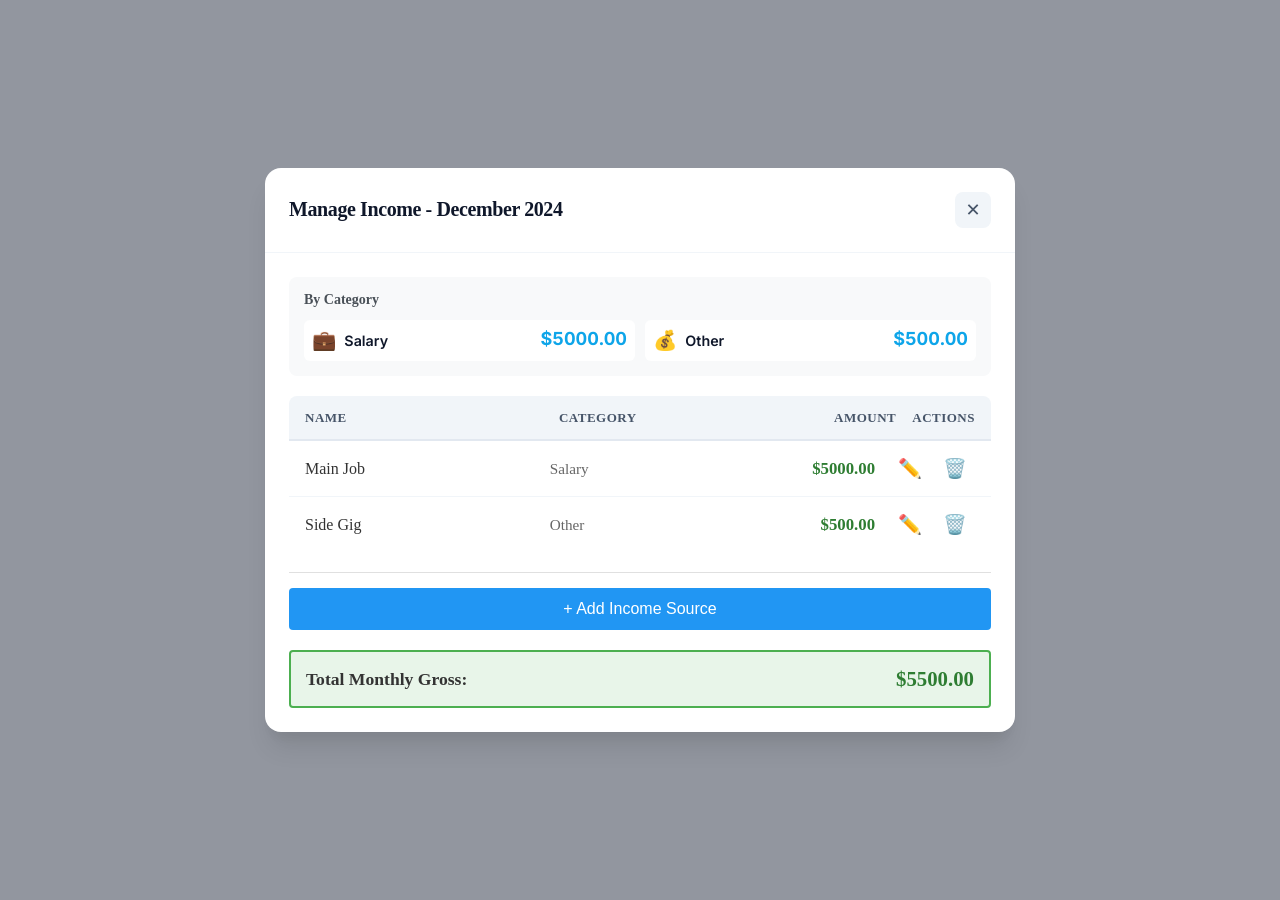
Test: IncomeManagementModal › Add Income Source › shows add form when button is clicked
Click the button "+ Add Income Source" at (640,609), box [289, 588, 991, 630]
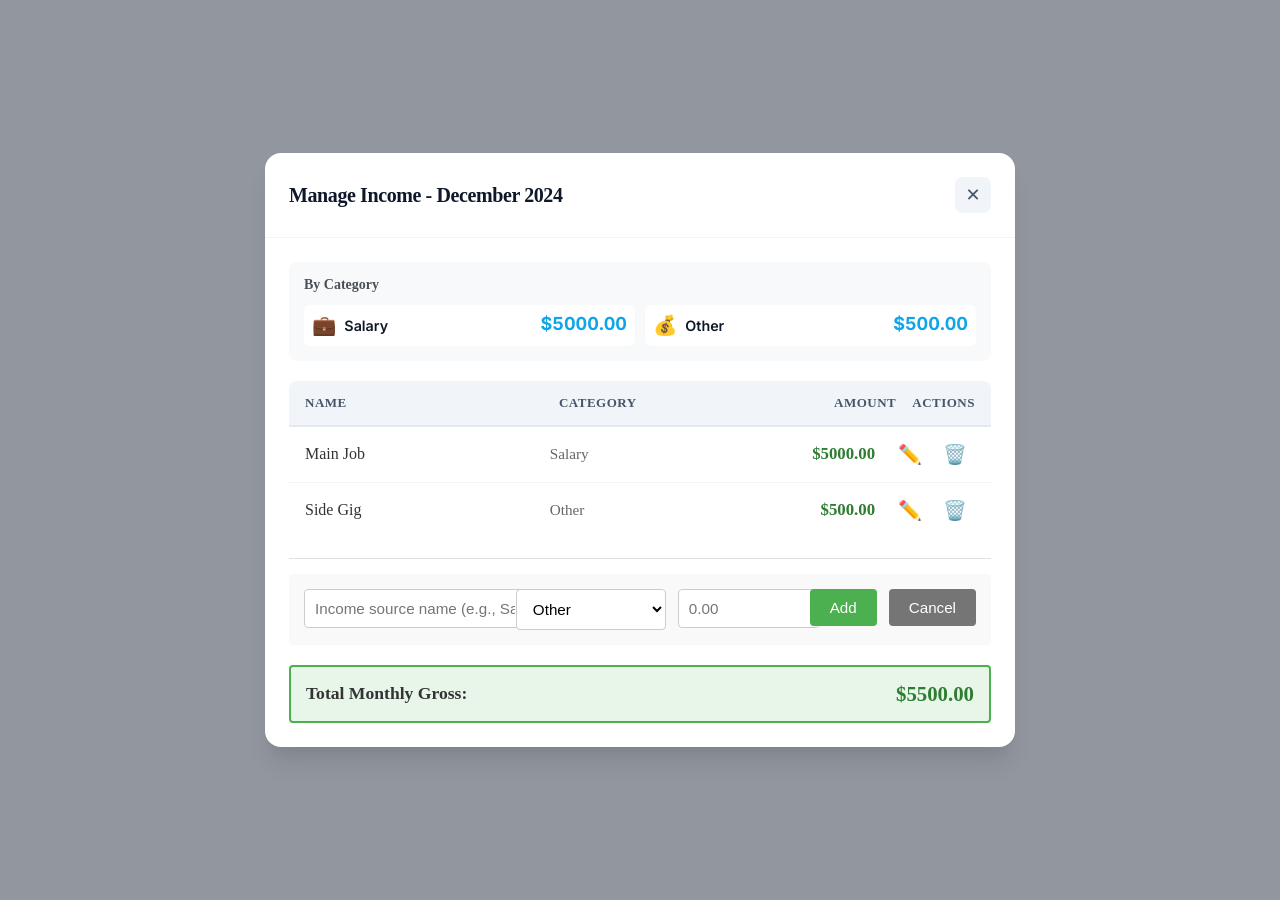
Now the field with placeholder "Income source name (e.g., Salary)" is shown, box [304, 589, 526, 628]
